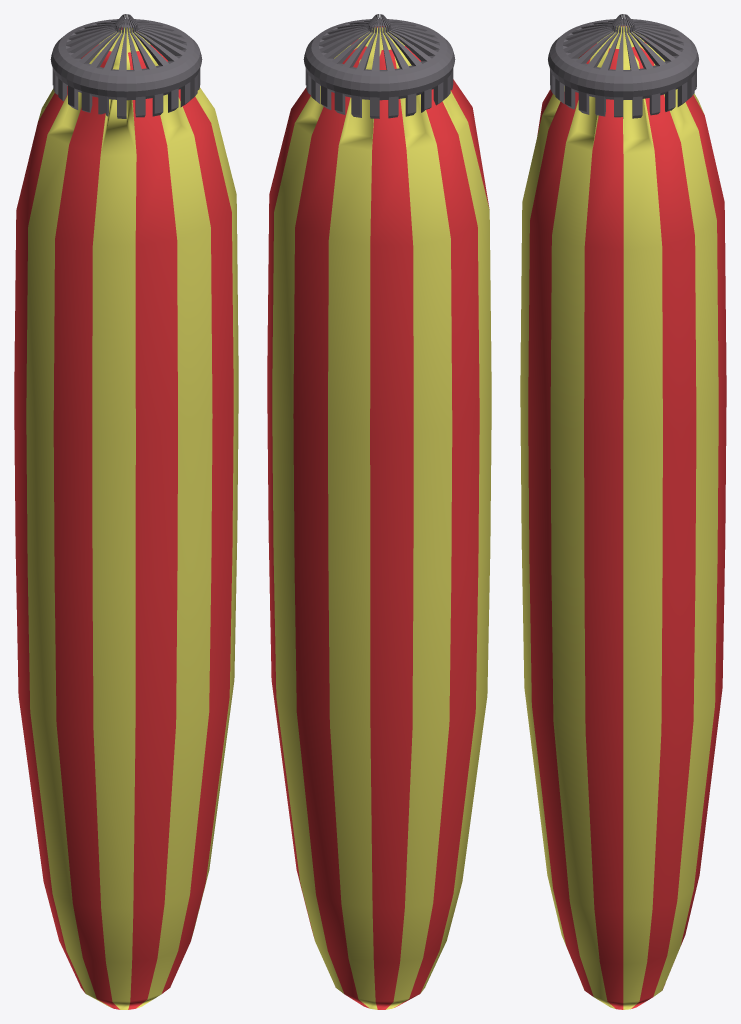
File: болон.fbx
3 views of the same model, side by side, from view 1: azimuth 30°, elevation 25°; view 2: azimuth 150°, elevation 25°; view 3: azimuth 270°, elevation 25° (orthographic).
Parts seen in each view (by area): view 1: Цилиндр, Torus; view 2: Цилиндр, Torus; view 3: Цилиндр, Torus.
Part boxes in pixels (bbox=[...]): Цилиндр: bbox=[14, 27, 238, 1009]; Torus: bbox=[50, 14, 202, 118]; Цилиндр: bbox=[267, 26, 491, 1009]; Torus: bbox=[303, 14, 455, 118]; Цилиндр: bbox=[520, 25, 726, 1009]; Torus: bbox=[548, 14, 698, 118].
Bounding box in the file's own units: 62.17 × 292 × 55.49.
